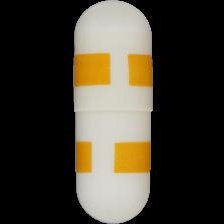59762-1517: (0, 0, 224, 224)
